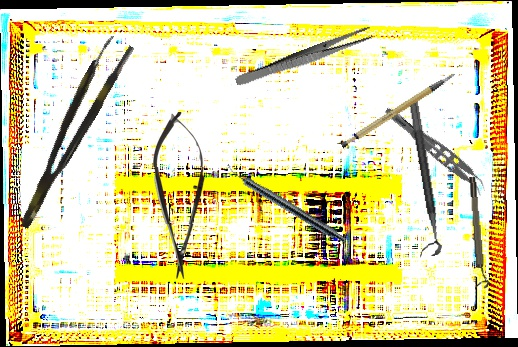Dressing Forceps: (234, 24, 374, 91)
Fixation Ring: (396, 101, 443, 258), (467, 176, 490, 289)
Handpiece: (222, 162, 349, 245)
Micro Scissor: (152, 111, 207, 280)
Scalpel Handle: (333, 72, 465, 151)
Tissue Forceps: (3, 33, 136, 231), (377, 104, 492, 199)
